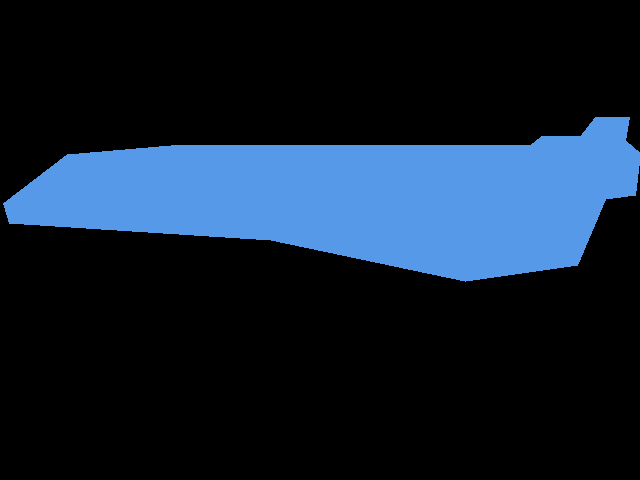Airplane: (3, 117, 640, 282)
